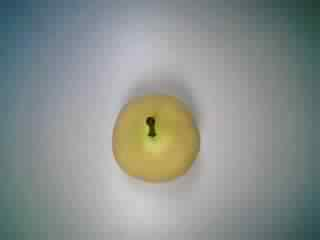pear: (106, 84, 205, 187)
